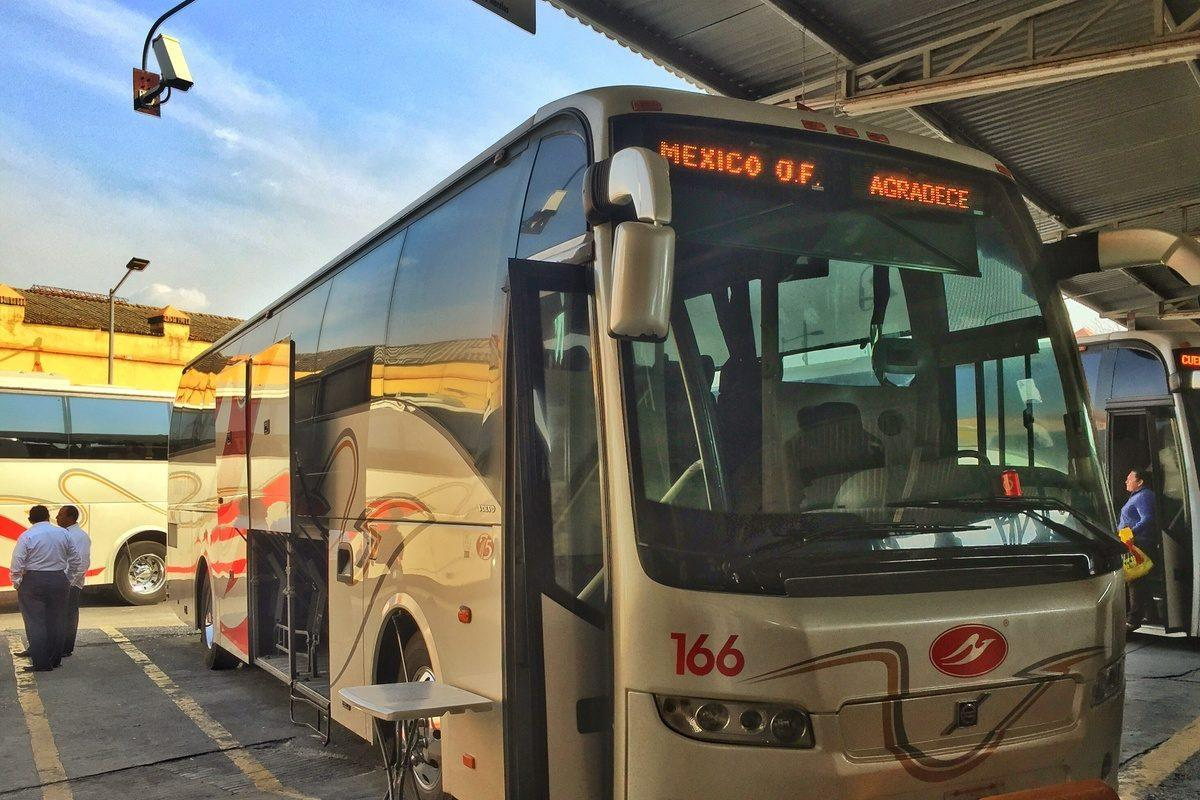Bus: (174, 87, 1199, 799)
